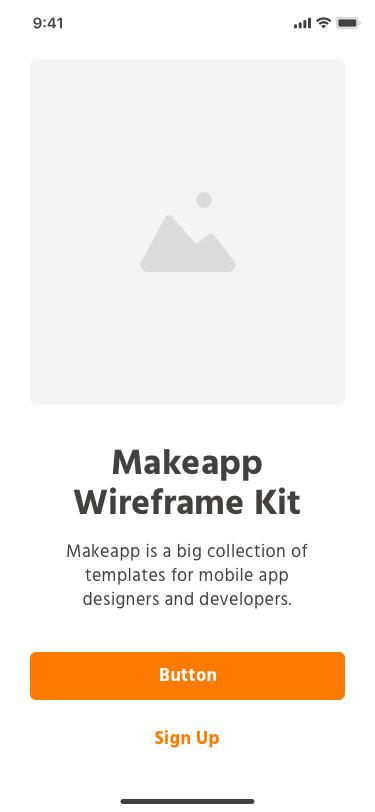Image: (31, 59, 346, 406)
Text: (67, 543, 308, 609), (73, 449, 301, 516), (154, 729, 221, 748)
TextButton: (30, 651, 346, 701)
UpperTaskBar: (34, 17, 362, 31)
